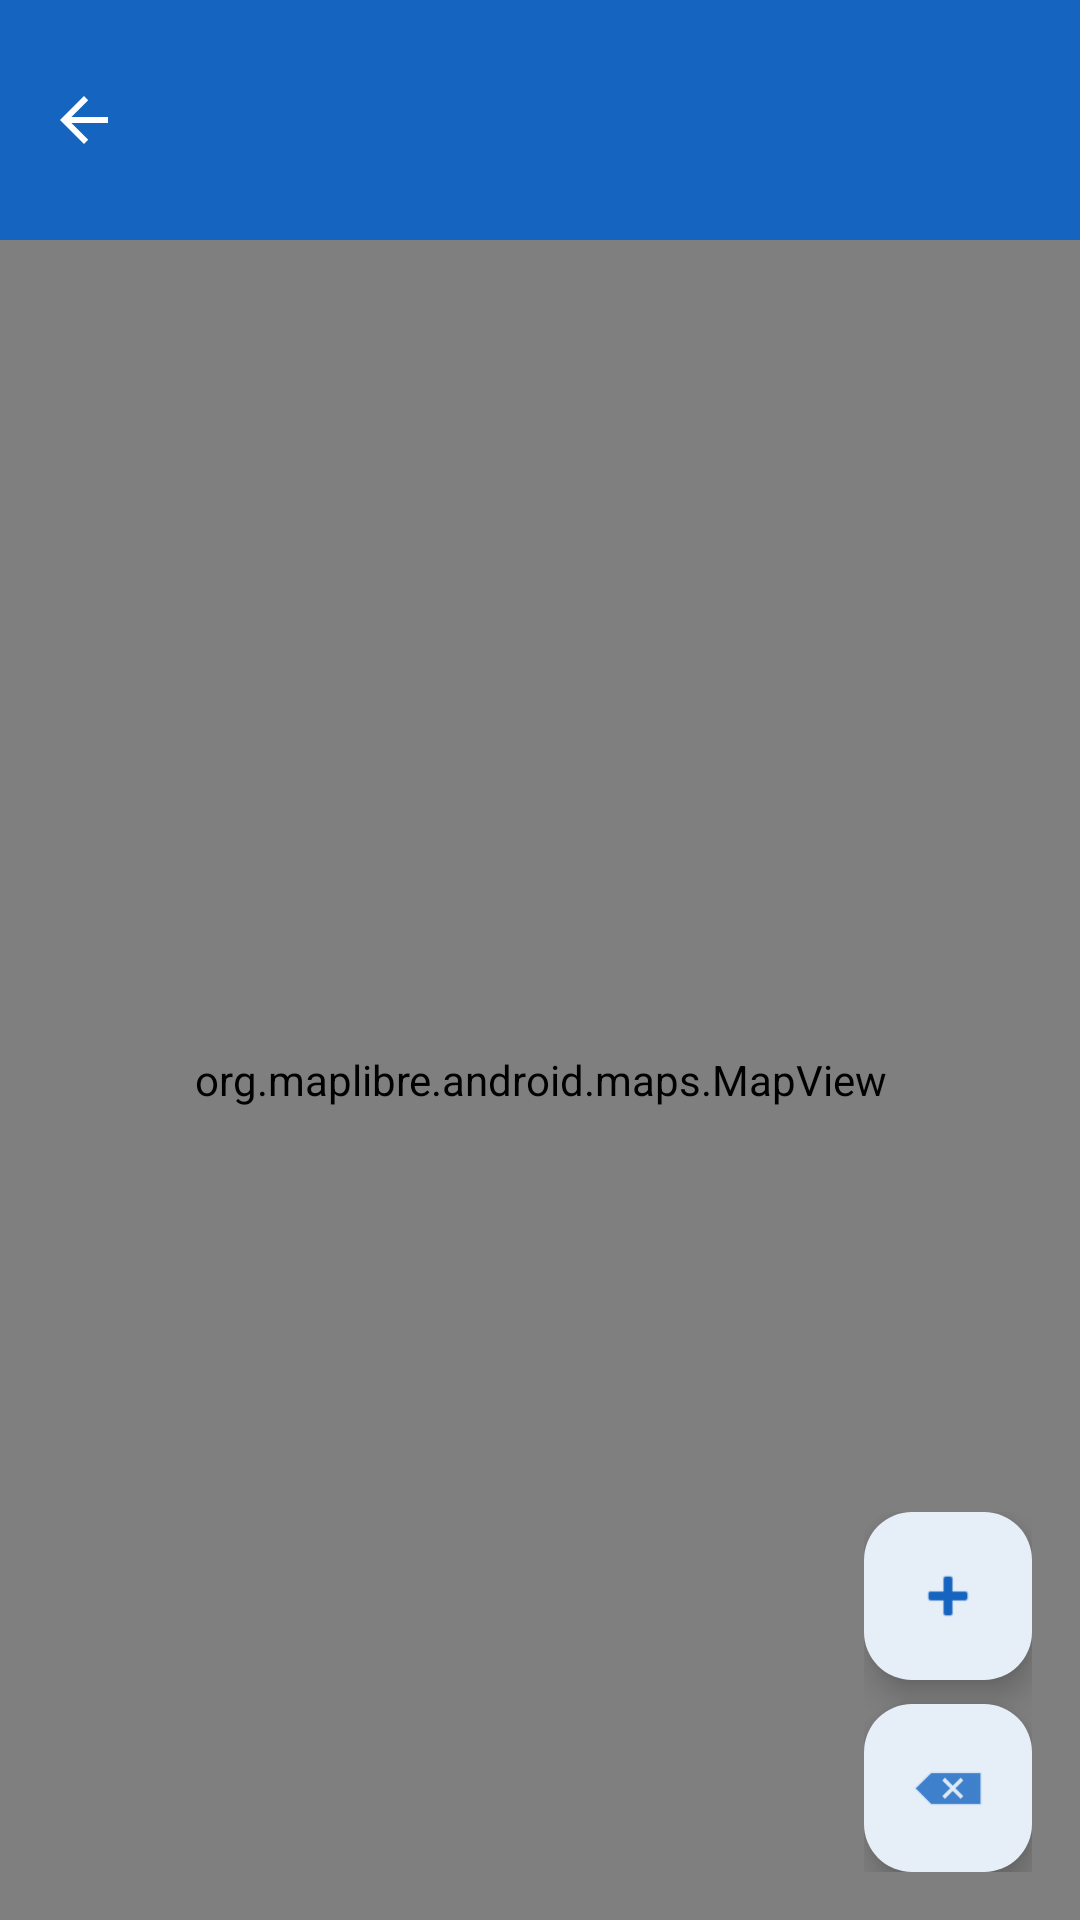

Icons on this 1080 × 1920 Android screen, each with the point to tap as (x=x, y=y):
Acercar mapa: (x=948, y=1596)
Volver a la pantalla anterior: (x=84, y=120)
